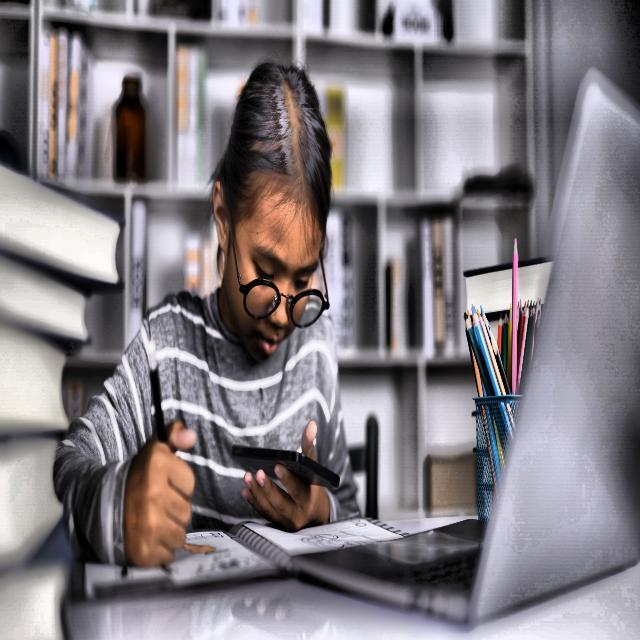Phone: (228, 439, 342, 495)
